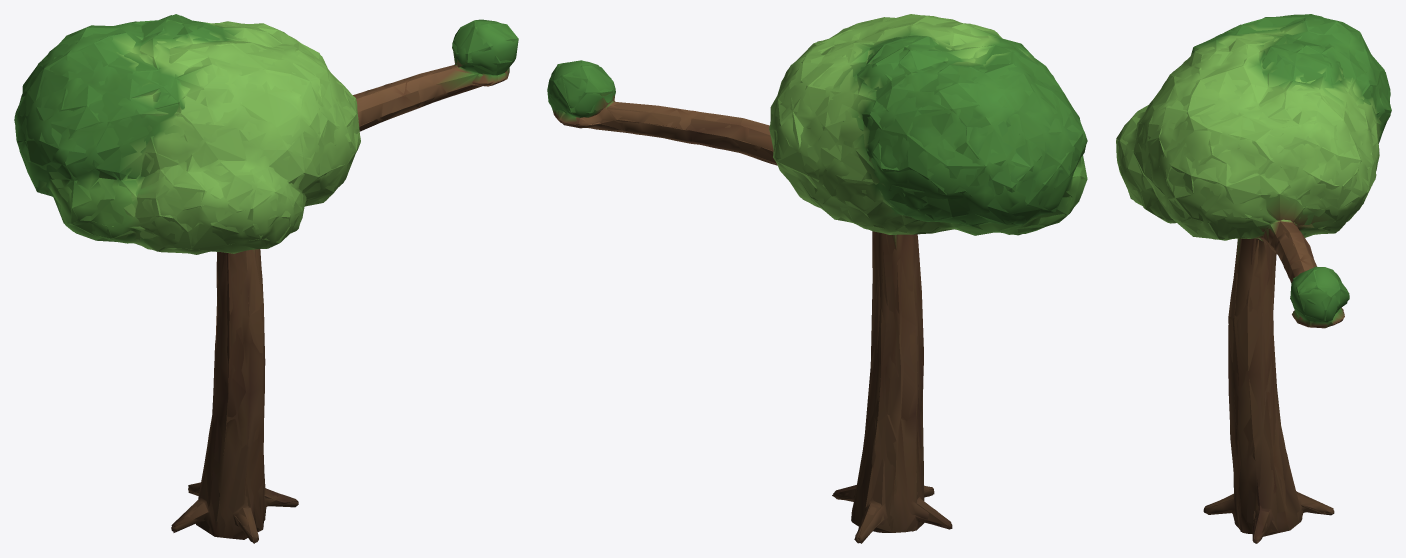
The model's file is broadleaf_broken_regrowth.glb.
The picture shows the model from 3 angles, left to right: view 1: azimuth 30°, elevation 25°; view 2: azimuth 150°, elevation 25°; view 3: azimuth 270°, elevation 25°; orthographic projection. The views are drawn at different scales.
Visible parts, largest first — view 1: broadleaf_broken_regrowth_LOD2, broadleaf_broken_regrowth_LOD1; view 2: broadleaf_broken_regrowth_LOD2, broadleaf_broken_regrowth_LOD1; view 3: broadleaf_broken_regrowth_LOD2, broadleaf_broken_regrowth_LOD1.
Boxes of the visible parts, x1,y1,x2,y2 form: broadleaf_broken_regrowth_LOD2: (14,14,518,543); broadleaf_broken_regrowth_LOD1: (14,15,517,542); broadleaf_broken_regrowth_LOD2: (548,14,1087,543); broadleaf_broken_regrowth_LOD1: (547,15,1086,543); broadleaf_broken_regrowth_LOD2: (1116,14,1391,543); broadleaf_broken_regrowth_LOD1: (1116,14,1390,543).
Bounding box in the file's own units: 4.58 × 4.39 × 2.38.
